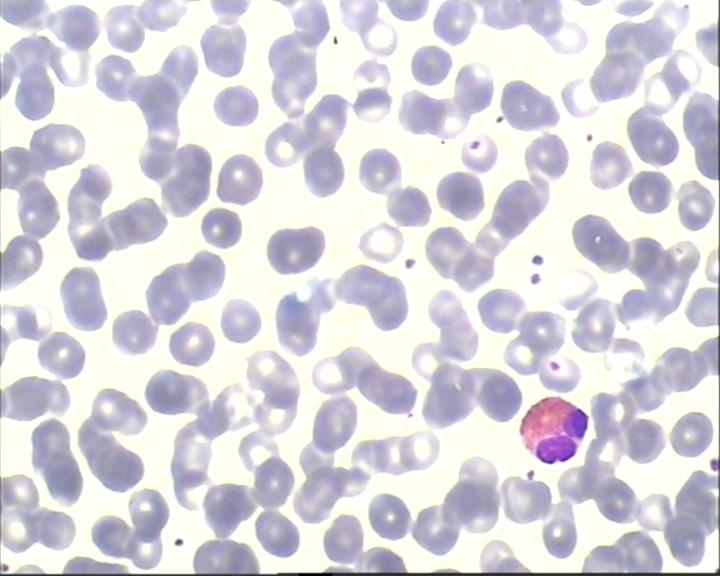eosi: (513, 391, 593, 466)
